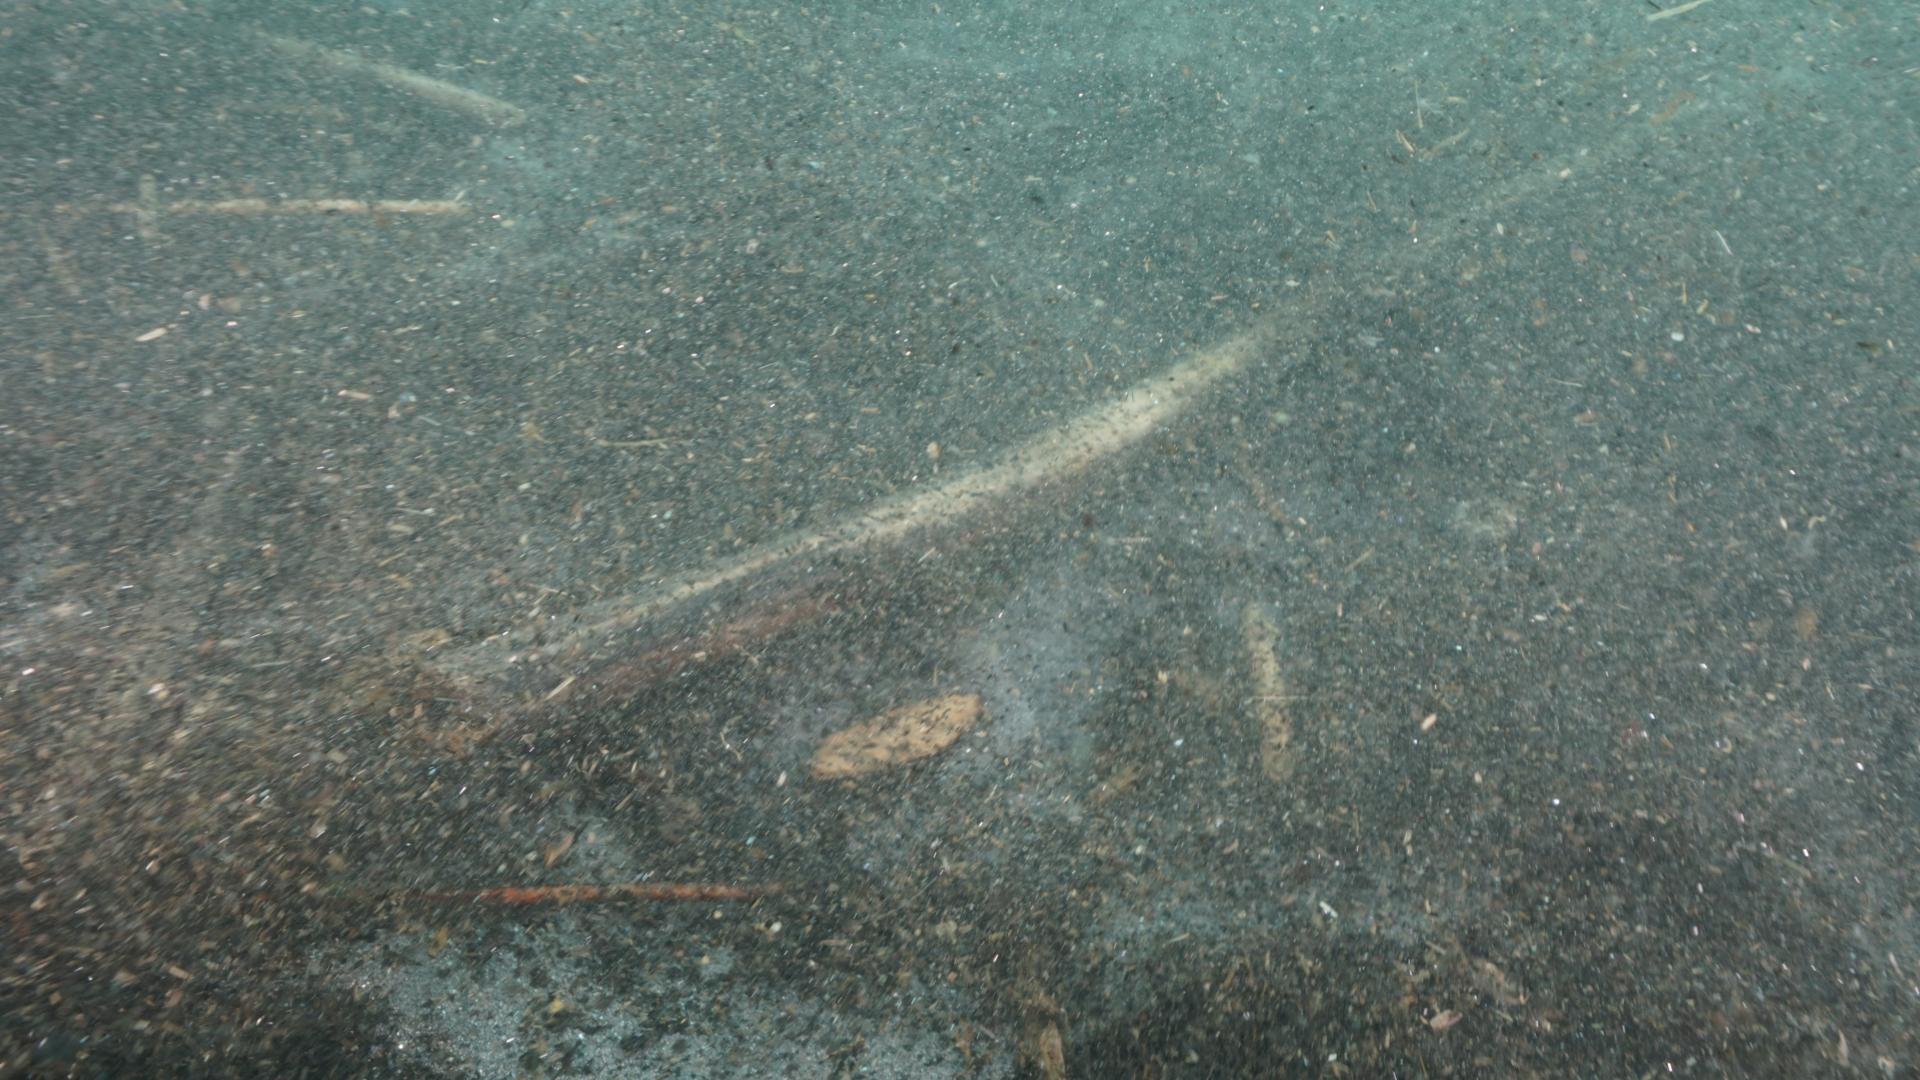wood: (415, 70, 1818, 760)
